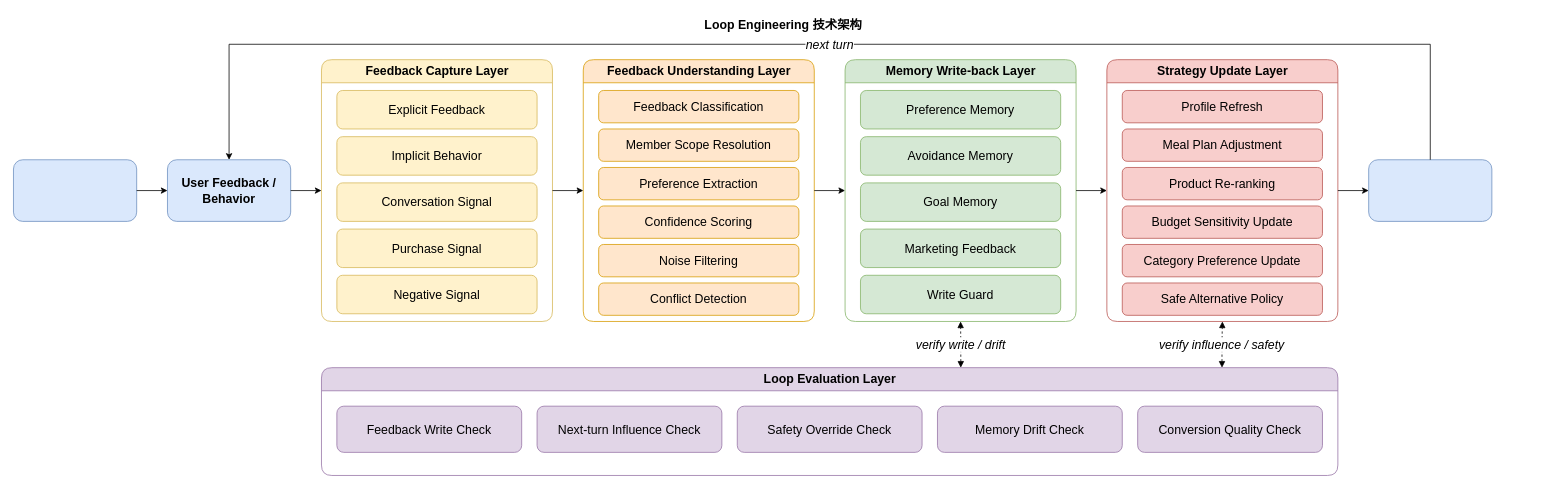
The diagram is 1567 pixels wide and 489 high, and some of its shapes have lost their labels. Here are the shapes that lost their labels. From the top down, the centre of each, then its label:
At point 75,190: "Agent Response".
At point 1430,190: "Next Agent Response".
